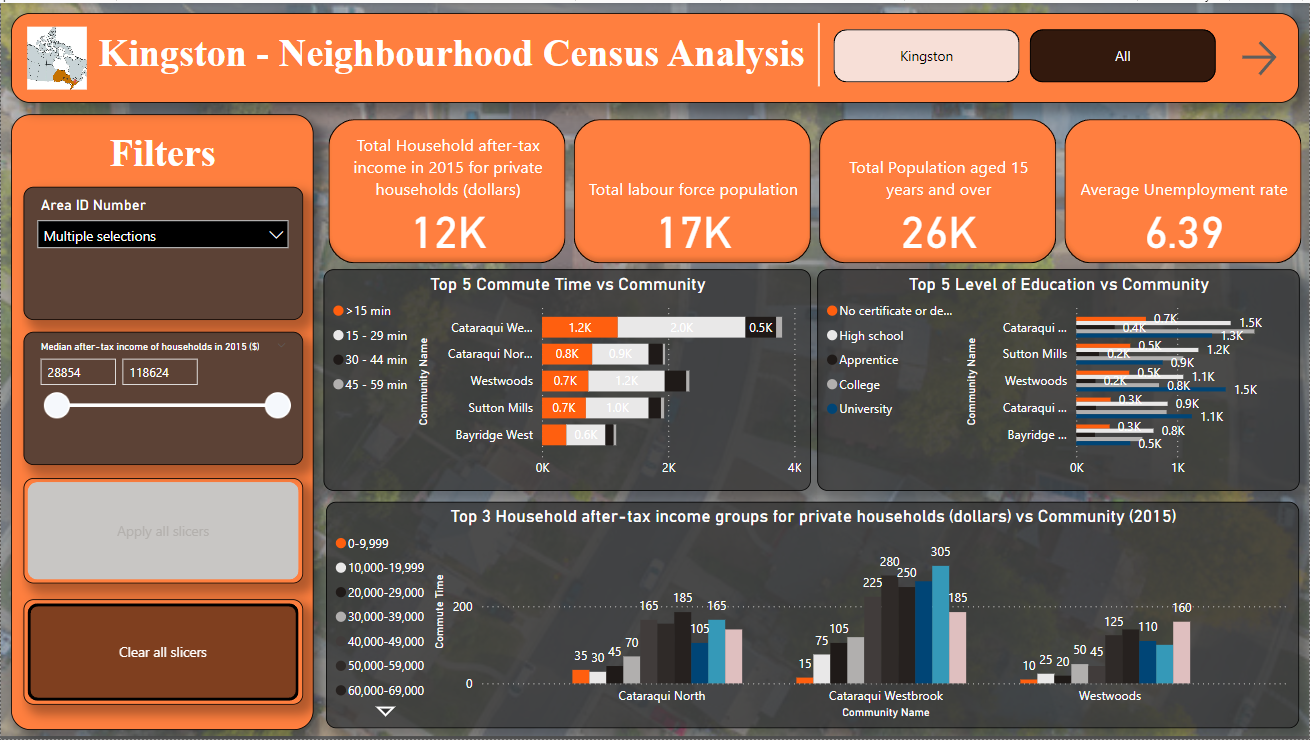

This screenshot's page, from the dashboard's own definition file:
{"tool":"powerbi","page":{"name":"Report 1","canvas":[1280,720],"ordinal":0},"visuals":[{"type":"shape","box":[9.6,108.4,296.4,602.4],"z":0},{"type":"shape","box":[9.6,9.6,1259.7,87.8],"z":1000},{"type":"textbox","box":[90,22,746,64],"z":2000},{"type":"shape","box":[714,20,172,62],"z":3000},{"type":"textbox","box":[35.7,119.4,245.6,71.4],"z":4000},{"type":"cardVisual","title":"All -Card (new)","fields":{"Data":["Sum(Feuil1.Total - Household after-tax income groups in 2015 for private households (dollars))","Sum(Feuil1.Total - Labour force population by occupation (NOC))","Sum(Feuil1.Total - Population aged 15 years and over by Labour force status)","Avg(Feuil1.Unemployment rate)"]},"box":[315,108.3,965,151.7],"z":5000},{"type":"barChart","title":"Top 5 Commute Time vs Community","fields":{"Category":["Feuil1.Community Name"],"Y":["Sum(Feuil1.Less than 15 minutes - Commuting duration for the employed labour force)","Sum(Feuil1.15 to 29 minutes - Commuting duration for the employed labour force)","Sum(Feuil1.30 to 44 minutes - Commuting duration for the employed labour force)","Sum(Feuil1.45 to 59 minutes - Commuting duration for the employed labour force)"]},"box":[315,260,476.7,216.7],"z":6000},{"type":"clusteredBarChart","title":"Top 5 Level of Education vs Community","fields":{"Category":["Feuil1.Community Name"],"Y":["Sum(Feuil1.No certificate or degree - Highest certificate, diploma or degree)","Sum(Feuil1.High school - Highest certificate, diploma or degree)","Sum(Feuil1.Apprentice - Highest certificate, diploma or degree)","Sum(Feuil1.College - Highest certificate, diploma or degree)","Sum(Feuil1.University - Highest certificate, diploma or degree)"]},"box":[798.3,260,471.7,216.7],"z":7000},{"type":"clusteredColumnChart","title":"Top 3 Household after-tax income groups for private households (dollars) vs Community (2015)","fields":{"Category":["Feuil1.Community Name"],"Y":["Sum(Feuil1.0-9,999 - Household after-tax income groups in 2015 for private households (dollars))","Sum(Feuil1.10,000-19,999 - Household after-tax income groups in 2015 for private households (dollars))","Sum(Feuil1.20,000-29,000 - Household after-tax income groups in 2015 for private households (dollars))","Sum(Feuil1.30,000-39,000 - Household after-tax income groups in 2015 for private households (dollars))","Sum(Feuil1.40,000-49,000 - Household after-tax income groups in 2015 for private households (dollars))","Sum(Feuil1.50,000-59,000 - Household after-tax income groups in 2015 for private households (dollars))","Sum(Feuil1.60,000-69,000 - Household after-tax income groups in 2015 for private households (dollars))","Sum(Feuil1.70,000-79,000 - Household after-tax income groups in 2015 for private households (dollars))","Sum(Feuil1.80,000-89,000 - Household after-tax income groups in 2015 for private households (dollars))","Sum(Feuil1.90,000-99,000 - Household after-tax income groups in 2015 for private households (dollars))"]},"box":[318.3,488.3,951.7,221.7],"z":8000},{"type":"slicer","title":"Household after-tax income groups for private households (dollars) vs Community (2015) - Kingston","fields":{"Values":["Feuil1.Area ID Number"]},"box":[21.7,180,273.3,130],"z":13000},{"type":"slicer","title":"Household after-tax income groups for private households (dollars) vs Community (2015) - Kingston","fields":{"Values":["Feuil1.Median after-tax income of households in 2015 (dollars)"]},"box":[21.7,321.7,273.3,130],"z":14000},{"type":"actionButton","box":[21.7,465,273.3,103.3],"z":15000},{"type":"actionButton","box":[21.7,583.3,273.3,103.3],"z":16000},{"type":"image","box":[21.3,18.3,68.5,71.6],"z":17000},{"type":"bookmarkNavigator","box":[814,26,374,52],"z":18000},{"type":"actionButton","box":[1208,26,44,56],"z":20000}]}

Visuals, with their boxes in screenshot pixels (x1, y1, x2, y2), scaled from the page's 1280x720 canvas onto the 1310x740 screenshot:
shape: <bbox>10, 111, 313, 731</bbox>
shape: <bbox>10, 10, 1299, 100</bbox>
textbox: <bbox>92, 23, 856, 88</bbox>
shape: <bbox>731, 21, 907, 84</bbox>
textbox: <bbox>37, 123, 288, 196</bbox>
"All -Card (new)" cardVisual: <bbox>322, 111, 1309, 267</bbox>
"Top 5 Commute Time vs Community" barChart: <bbox>322, 267, 810, 490</bbox>
"Top 5 Level of Education vs Community" clusteredBarChart: <bbox>817, 267, 1300, 490</bbox>
"Top 3 Household after-tax income groups for private households (dollars) vs Community (2015)" clusteredColumnChart: <bbox>326, 502, 1300, 730</bbox>
"Household after-tax income groups for private households (dollars) vs Community (2015) - Kingston" slicer: <bbox>22, 185, 302, 319</bbox>
"Household after-tax income groups for private households (dollars) vs Community (2015) - Kingston" slicer: <bbox>22, 331, 302, 464</bbox>
actionButton: <bbox>22, 478, 302, 584</bbox>
actionButton: <bbox>22, 600, 302, 706</bbox>
image: <bbox>22, 19, 92, 92</bbox>
bookmarkNavigator: <bbox>833, 27, 1216, 80</bbox>
actionButton: <bbox>1236, 27, 1281, 84</bbox>
